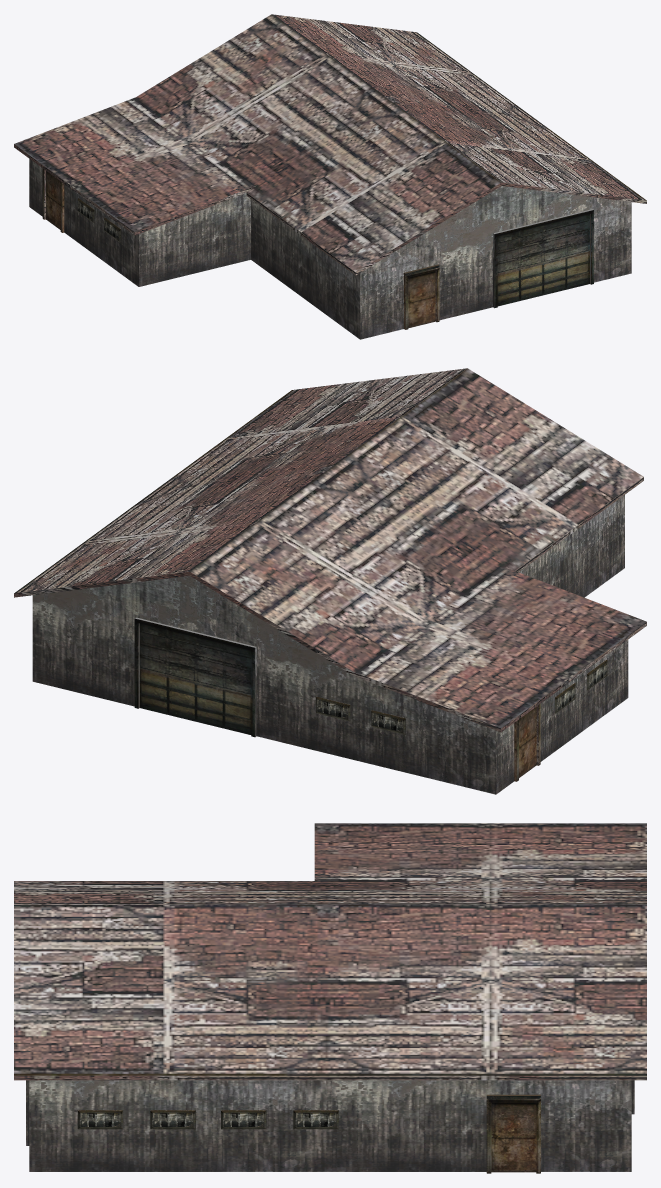
The model's file is warehs02.glb.
3 views of the same model, one above another, from view 1: azimuth 30°, elevation 25°; view 2: azimuth 150°, elevation 25°; view 3: azimuth 270°, elevation 25° (orthographic). The views are drawn at different scales.
Visible parts, largest first — view 1: _warehs02; view 2: _warehs02; view 3: _warehs02.
Part boxes in pixels (x1=…): _warehs02: x1=14, y1=14, x2=646, y2=339; _warehs02: x1=14, y1=368, x2=646, y2=794; _warehs02: x1=14, y1=823, x2=646, y2=1173.
Bounding box in the file's own units: 21.79 × 6.62 × 21.53.
1 material, 1 textured.
